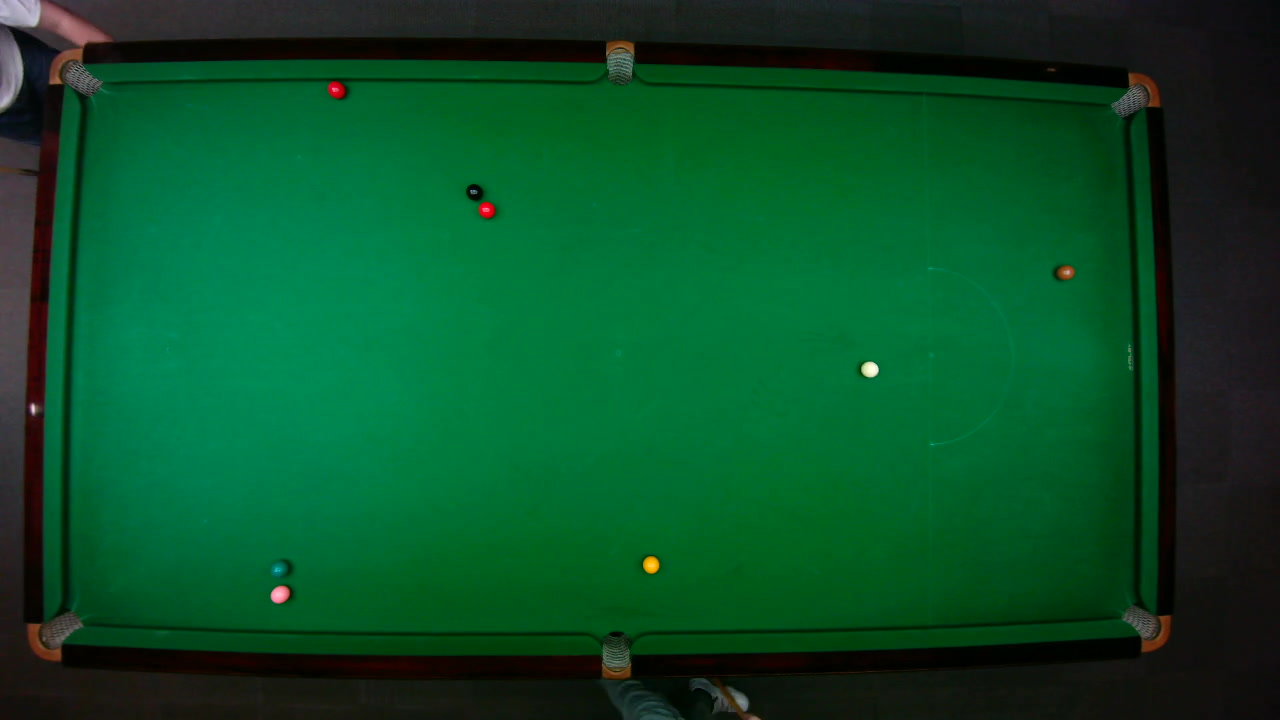bag: (25, 609, 84, 661), (47, 47, 103, 97), (1108, 71, 1161, 119), (1119, 603, 1171, 651), (601, 629, 630, 679), (605, 38, 633, 85)
black: (464, 183, 482, 200)
brown: (1054, 263, 1076, 280)
green: (269, 558, 289, 576)
pink: (268, 583, 290, 604)
red: (326, 79, 346, 99), (476, 200, 496, 219)
white: (858, 359, 879, 377)
yellow: (640, 554, 660, 574)
zone: (927, 266, 1013, 445)
